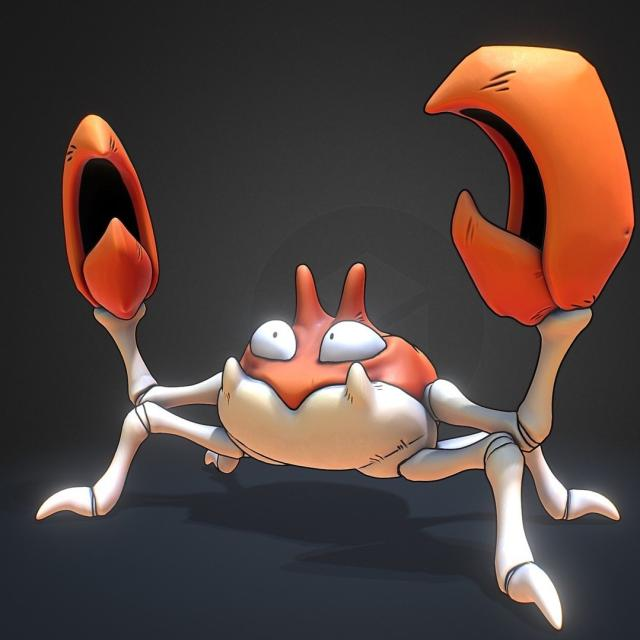Krabby: (80, 192, 622, 554)
